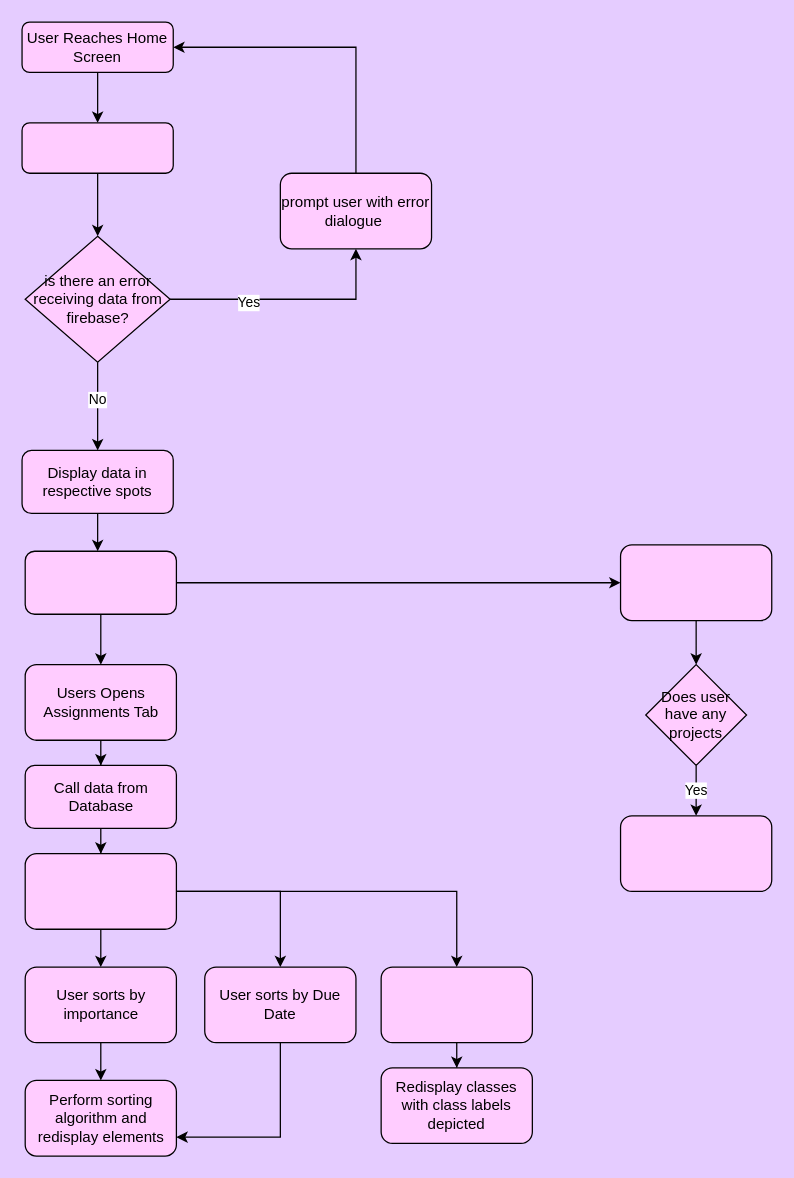
Image size: 794x1178. Some labels were removed from this diagram. Here are the shapes that lost their labels. From the top down, the centre of each, then its label:
At point 97,147: "Verify User Preferences (Layout, colors, etc. )".
At point 100,582: "Tabbar with different screens is displayed".
At point 695,582: "User Opens Projects Tab".
At point 695,853: "Display Projects".
At point 100,890: "Display all current assignments".
At point 456,1004: "User Groups By Class".
